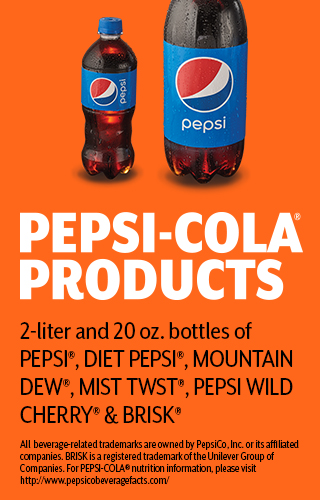pepsi: (174, 53, 234, 112), (87, 75, 115, 104)
